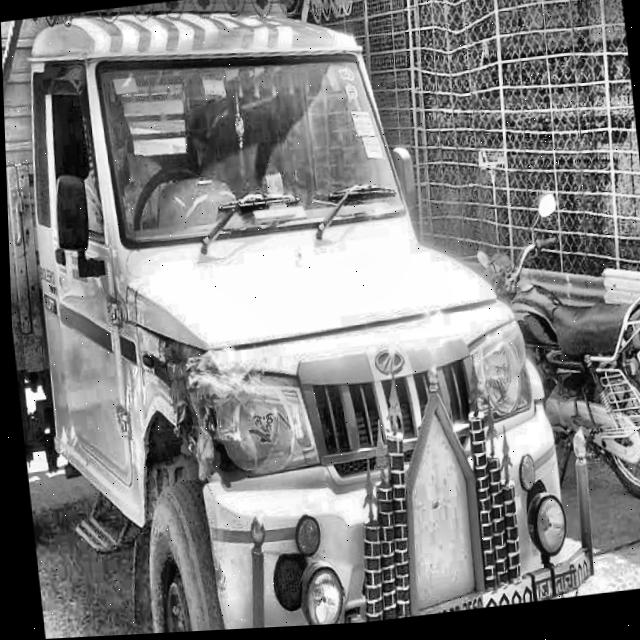light_vehicle: (0, 0, 589, 640)
